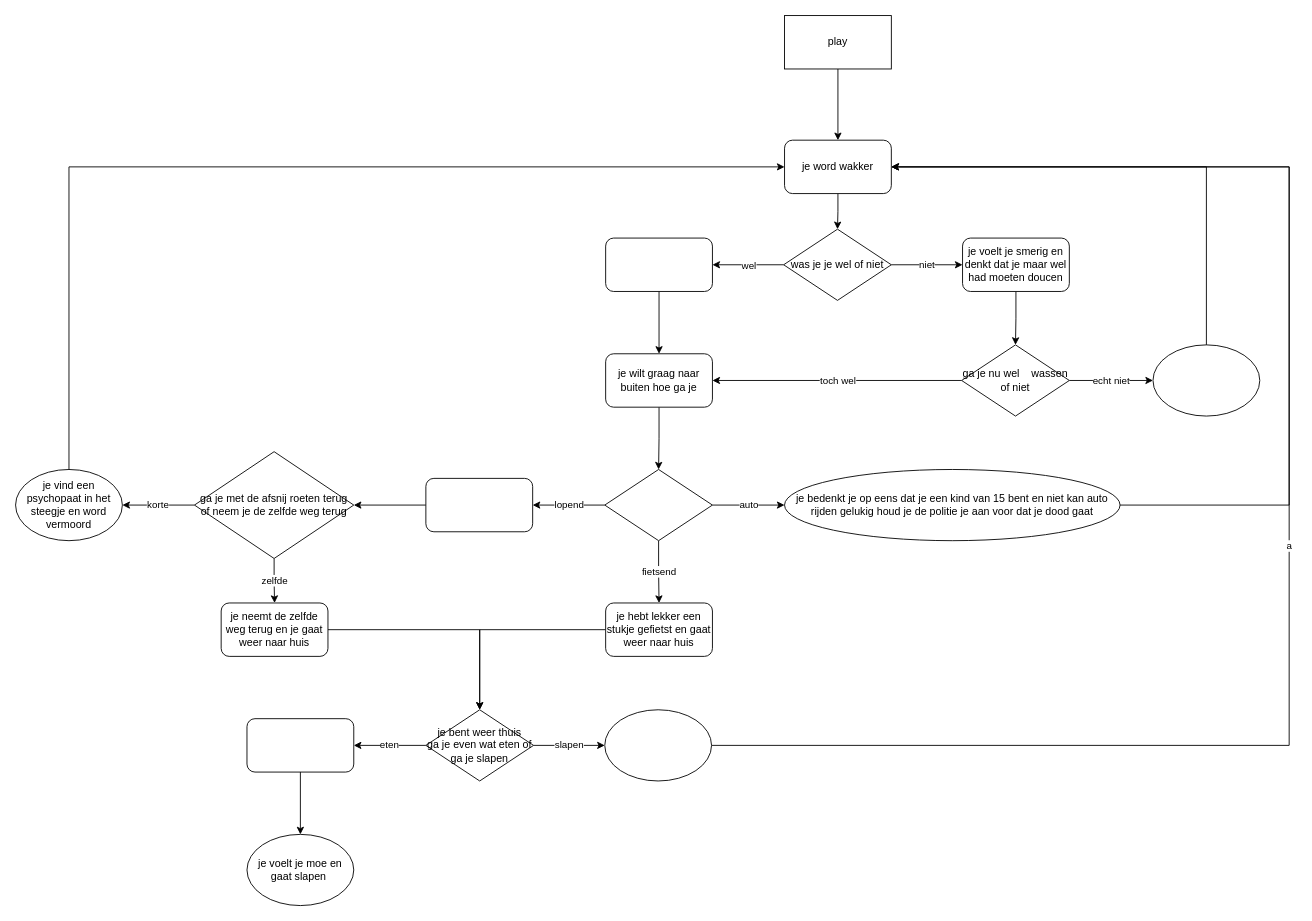
Image size: 1312x921. Some labels were removed from this diagram. Here are the shapes that lost their labels. From the top down, the centre of each, then its label:
At point 658,264: "je voelt je heerlijk fris".
At point 1206,380: "je gaat dood aan je eigen stank".
At point 479,504: "je gaat weer naar huis maar vind het lang duren".
At point 658,505: "ga je met de fiets lopend of met de auto".
At point 300,745: "je eet een lekker broodje met kaas".
At point 658,745: "je gaat dood in je slaap omdat je niet hebt ge geten".
